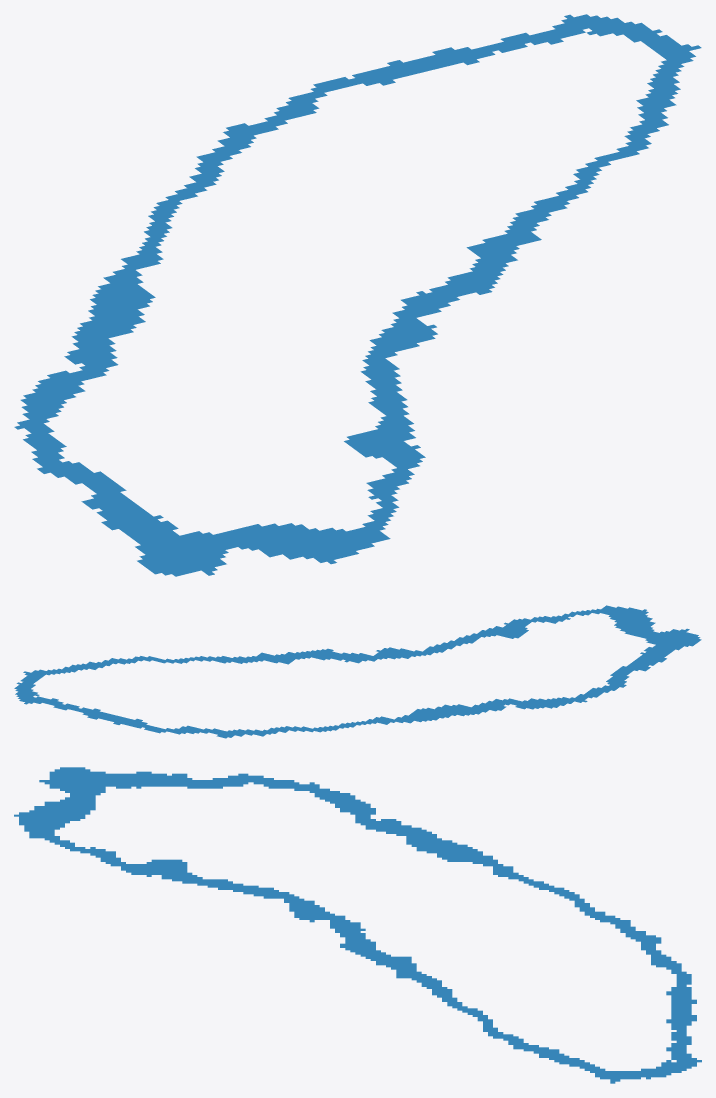
File: Isl-long1-PlaceForWaterObjects.fbx
3 renders of one model, top to bottom at view 1: azimuth 30°, elevation 25°; view 2: azimuth 150°, elevation 25°; view 3: azimuth 270°, elevation 25°, orthographic. The views are drawn at different scales.
Visible parts, largest first — view 1: Isl-long1-PlaceForWaterObjects; view 2: Isl-long1-PlaceForWaterObjects; view 3: Isl-long1-PlaceForWaterObjects.
Boxes of the visible parts, <box> form: Isl-long1-PlaceForWaterObjects: <box>14,14,701,576</box>; Isl-long1-PlaceForWaterObjects: <box>14,605,701,738</box>; Isl-long1-PlaceForWaterObjects: <box>14,767,701,1083</box>.
Size of the model in its own units: 147 by 0 by 135.
